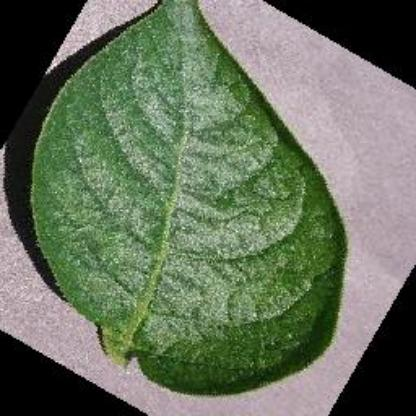Healthy-plant: (3, 3, 375, 405)
